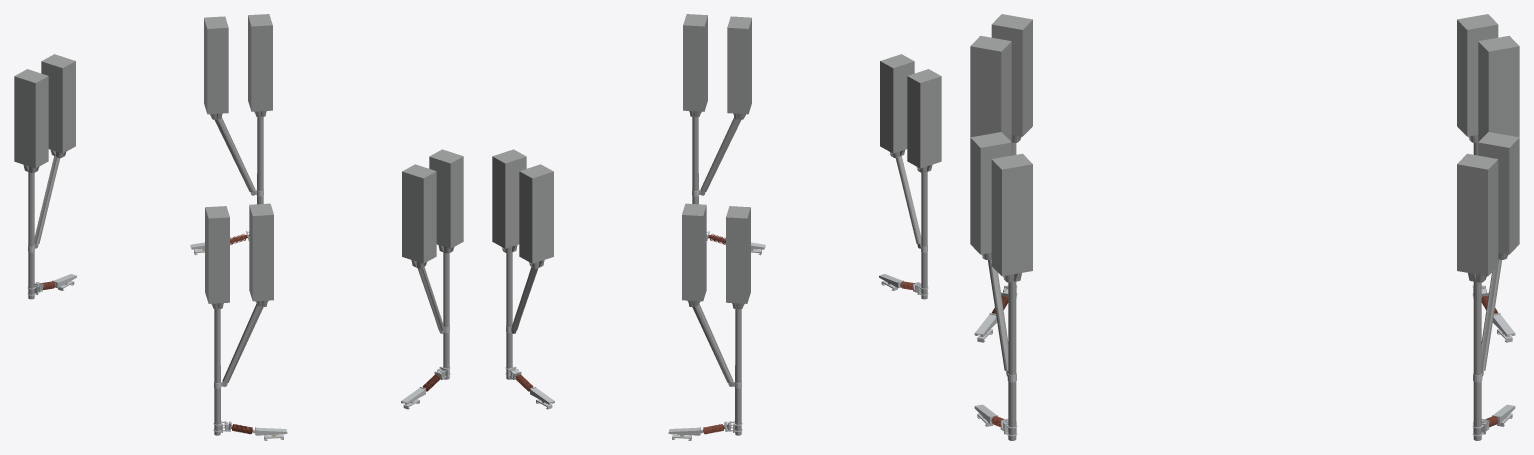
The model's file is catenary_rigid_225d_h_node.obj.
The picture shows the model from 3 angles, left to right: view 1: azimuth 30°, elevation 25°; view 2: azimuth 150°, elevation 25°; view 3: azimuth 270°, elevation 25°; orthographic projection. The views are drawn at different scales.
Parts seen in each view (by area): view 1: 1.004, 1.001, 1.008, 1.005; view 2: 1.008, 1.005, 1.004, 1.001; view 3: 1.001, 1.005, 1.004, 1.008.
Boxes of the visible parts, x1,y1,x2,y2 form: 1.004: (14,54,76,299); 1.001: (401,149,463,409); 1.008: (205,203,287,440); 1.005: (190,14,272,255); 1.008: (879,54,941,299); 1.005: (492,149,554,409); 1.004: (668,203,750,440); 1.001: (683,14,765,255); 1.001: (970,132,1032,440); 1.005: (1457,132,1519,440); 1.004: (1457,14,1519,342); 1.008: (970,14,1032,342).
Size of the model in its own units: 3.24 by 2.8 by 4.84.
1 material, 1 textured.
